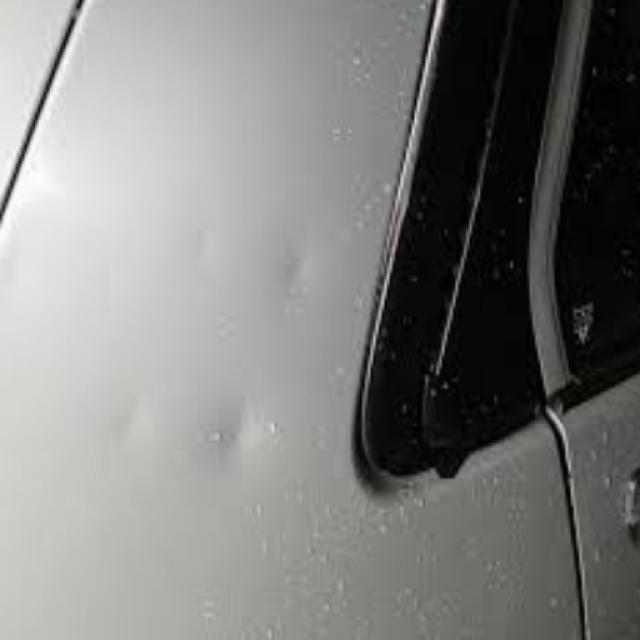dents: (251, 224, 345, 328), (199, 388, 291, 491), (112, 388, 178, 481), (167, 222, 230, 268)
